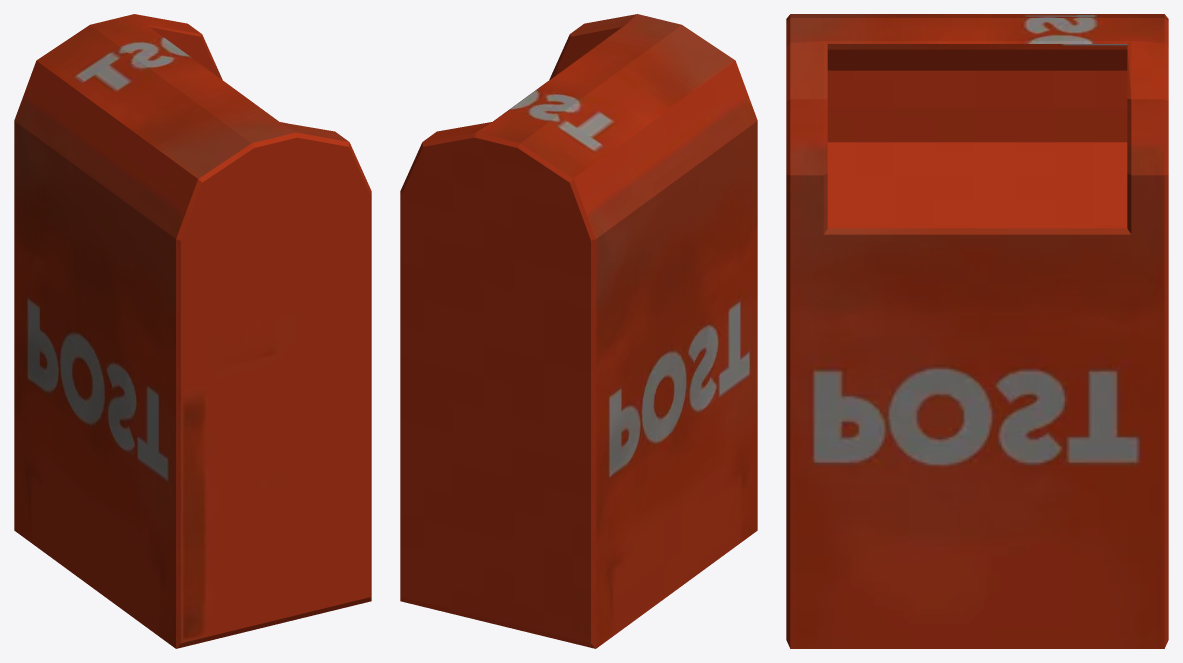
File: strProp_01.glb
3 renders of one model, left to right at view 1: azimuth 30°, elevation 25°; view 2: azimuth 150°, elevation 25°; view 3: azimuth 270°, elevation 25°, orthographic. The views are drawn at different scales.
Visible parts, largest first — view 1: geometry_0; view 2: geometry_0; view 3: geometry_0.
Boxes of the visible parts, x1=… form: geometry_0: x1=14, y1=14, x2=371, y2=648; geometry_0: x1=400, y1=14, x2=757, y2=648; geometry_0: x1=786, y1=14, x2=1168, y2=648.
Bounding box in the file's own units: 0.4617 × 1.1 × 0.6753.
1 material, 1 textured.
